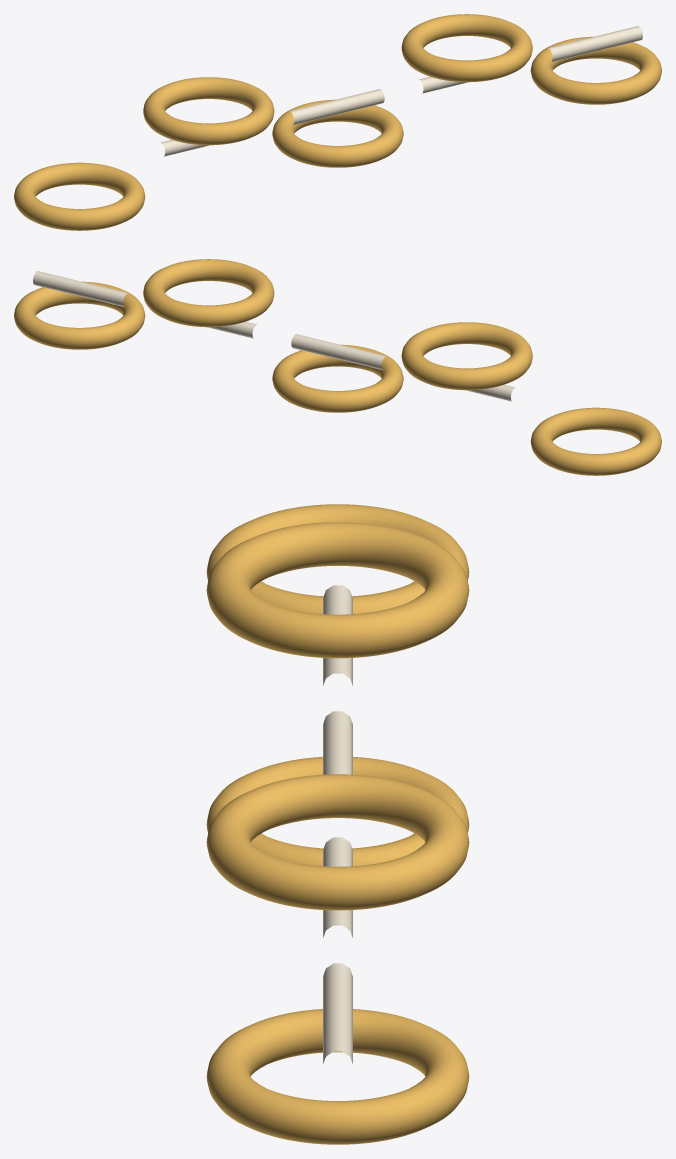
File: biology-biochemistry-carbohydrate.glb
3 views of the same model, one above another, from view 1: azimuth 30°, elevation 25°; view 2: azimuth 150°, elevation 25°; view 3: azimuth 270°, elevation 25° (orthographic). The views are drawn at different scales.
Visible parts, largest first — view 1: sugar-ring-1, sugar-ring-3, sugar-ring-0, sugar-ring-2, sugar-ring-4, glycosidic-link-4, glycosidic-link-2, glycosidic-link-1, glycosidic-link-3; view 2: sugar-ring-1, sugar-ring-3, sugar-ring-0, sugar-ring-2, sugar-ring-4, glycosidic-link-4, glycosidic-link-2, glycosidic-link-1, glycosidic-link-3; view 3: sugar-ring-3, sugar-ring-1, sugar-ring-4, sugar-ring-0, sugar-ring-2, glycosidic-link-4, glycosidic-link-2, glycosidic-link-3, glycosidic-link-1.
Boxes of the visible parts, <box> form: sugar-ring-1: <box>143,77,274,145</box>; sugar-ring-3: <box>401,14,532,82</box>; sugar-ring-0: <box>14,162,145,230</box>; sugar-ring-2: <box>272,99,403,167</box>; sugar-ring-4: <box>530,36,661,104</box>; glycosidic-link-4: <box>548,26,642,62</box>; glycosidic-link-2: <box>290,89,384,125</box>; glycosidic-link-1: <box>160,139,209,156</box>; glycosidic-link-3: <box>419,76,467,93</box>; sugar-ring-1: <box>401,322,532,390</box>; sugar-ring-3: <box>143,259,274,327</box>; sugar-ring-0: <box>530,407,661,475</box>; sugar-ring-2: <box>272,344,403,412</box>; sugar-ring-4: <box>14,281,145,349</box>; glycosidic-link-4: <box>33,271,127,307</box>; glycosidic-link-2: <box>291,334,385,370</box>; glycosidic-link-1: <box>466,384,515,401</box>; glycosidic-link-3: <box>208,321,256,338</box>; sugar-ring-3: <box>206,774,469,910</box>; sugar-ring-1: <box>206,522,469,658</box>; sugar-ring-4: <box>206,1009,469,1144</box>; sugar-ring-0: <box>206,504,469,613</box>; sugar-ring-2: <box>206,757,469,866</box>; glycosidic-link-4: <box>323,963,352,1063</box>; glycosidic-link-2: <box>323,711,352,774</box>; glycosidic-link-3: <box>323,837,352,937</box>; glycosidic-link-1: <box>323,585,352,685</box>.
Size of what is drawn, in the model's own units: 1.46 by 0.164 by 0.264.
